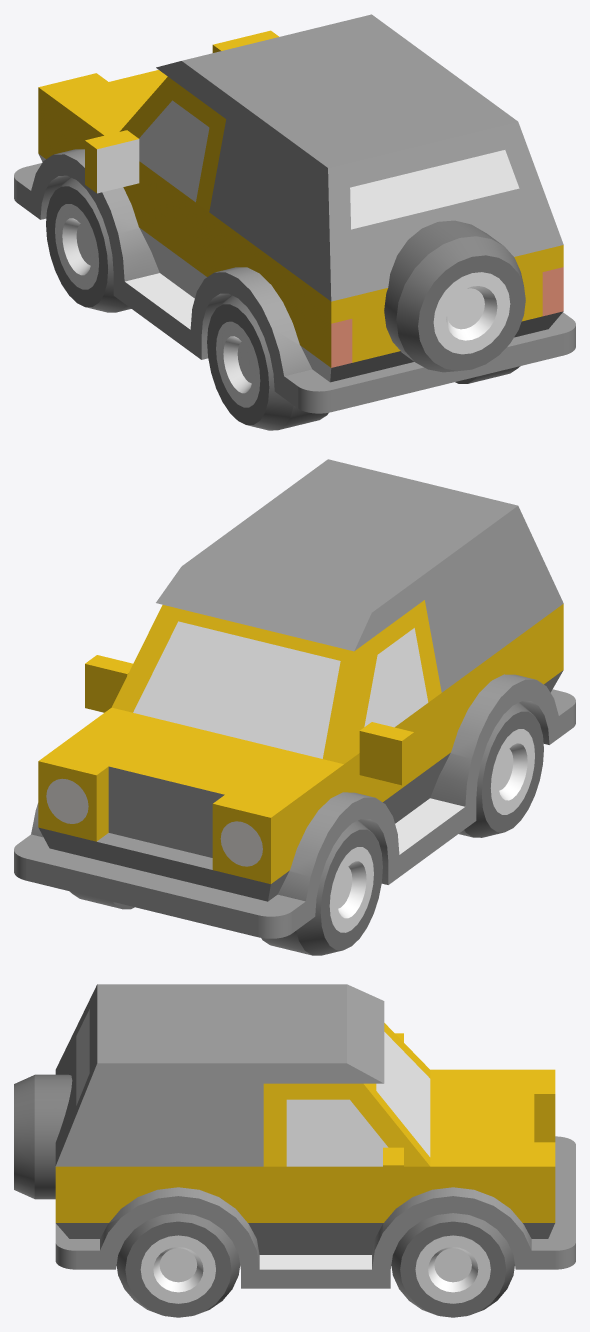
File: suv.glb
The picture shows the model from 3 angles, top to bottom: view 1: azimuth 30°, elevation 25°; view 2: azimuth 150°, elevation 25°; view 3: azimuth 270°, elevation 25°; orthographic projection. The views are drawn at different scales.
Parts seen in each view (by area): view 1: body, wheel_back, wheel_backLeft, wheel_frontLeft; view 2: body, wheel_frontLeft, wheel_backLeft; view 3: body, wheel_backRight, wheel_frontRight, wheel_back.
Boxes of the visible parts, bbox=[...] form: body: bbox=[14, 14, 575, 413]; wheel_back: bbox=[384, 220, 525, 372]; wheel_backLeft: bbox=[207, 295, 328, 430]; wheel_frontLeft: bbox=[46, 177, 131, 312]; body: bbox=[14, 459, 575, 938]; wheel_frontLeft: bbox=[261, 820, 382, 955]; wheel_backLeft: bbox=[459, 702, 543, 837]; body: bbox=[55, 984, 575, 1288]; wheel_backRight: bbox=[116, 1213, 240, 1317]; wheel_frontRight: bbox=[391, 1213, 514, 1317]; wheel_back: bbox=[14, 1074, 72, 1199].
Size of the model in its own units: 1.5 by 1.3 by 2.7.
